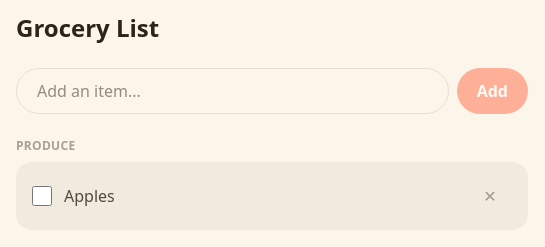
Test case: Grocery list › toggles an item and updates the cache from the server response
expect the text "Apples" is shown: met, box [64,184,115,208]
Click the checkbox named "mark apples as bought".
click(42, 196)  # box [32,186,52,206]
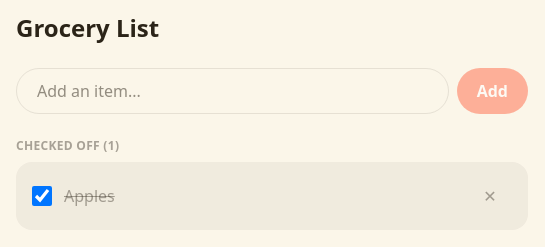
expect the heading "Checked off (1)" is shown: met, box [16,137,119,154]
